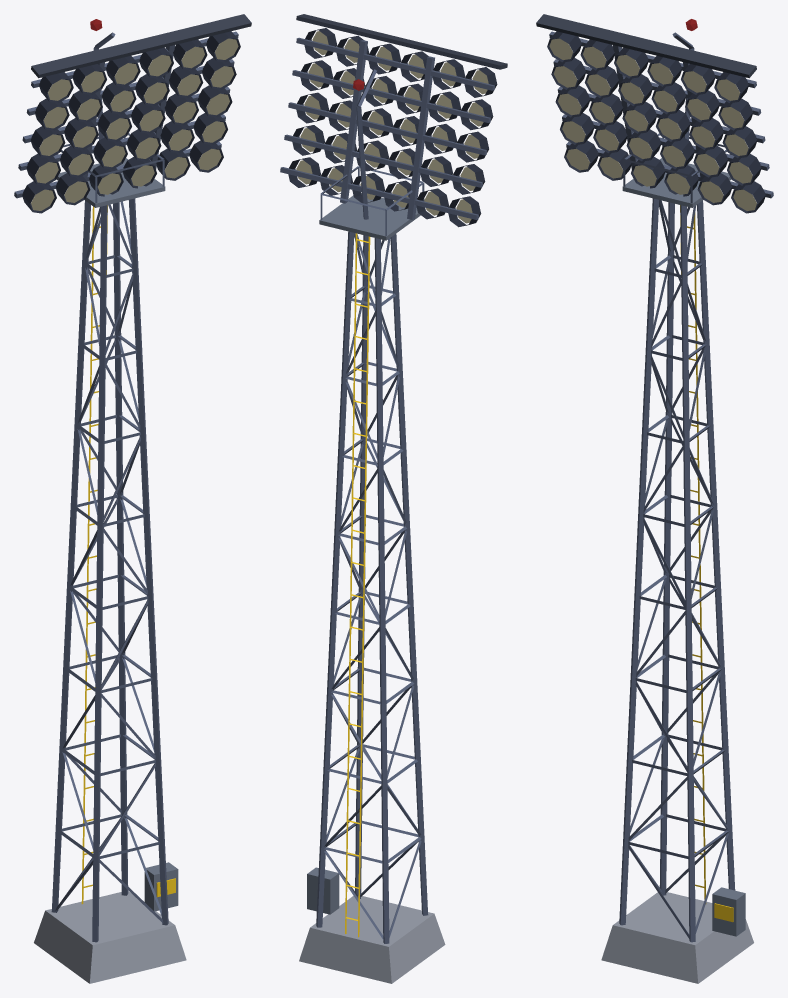
The model's file is floodlight.glb.
3 renders of one model, left to right at view 1: azimuth 30°, elevation 25°; view 2: azimuth 150°, elevation 25°; view 3: azimuth 330°, elevation 25°, orthographic. The views are drawn at different scales.
Parts seen in each view (by area): view 1: floodlight; view 2: floodlight; view 3: floodlight.
Part boxes in pixels (x1,y1,x2,y2): floodlight: [14, 14, 251, 983]; floodlight: [280, 14, 507, 983]; floodlight: [536, 14, 773, 983].
Bounding box in the file's own units: 7.9 × 33.05 × 4.09.
2 materials, 2 textured.
